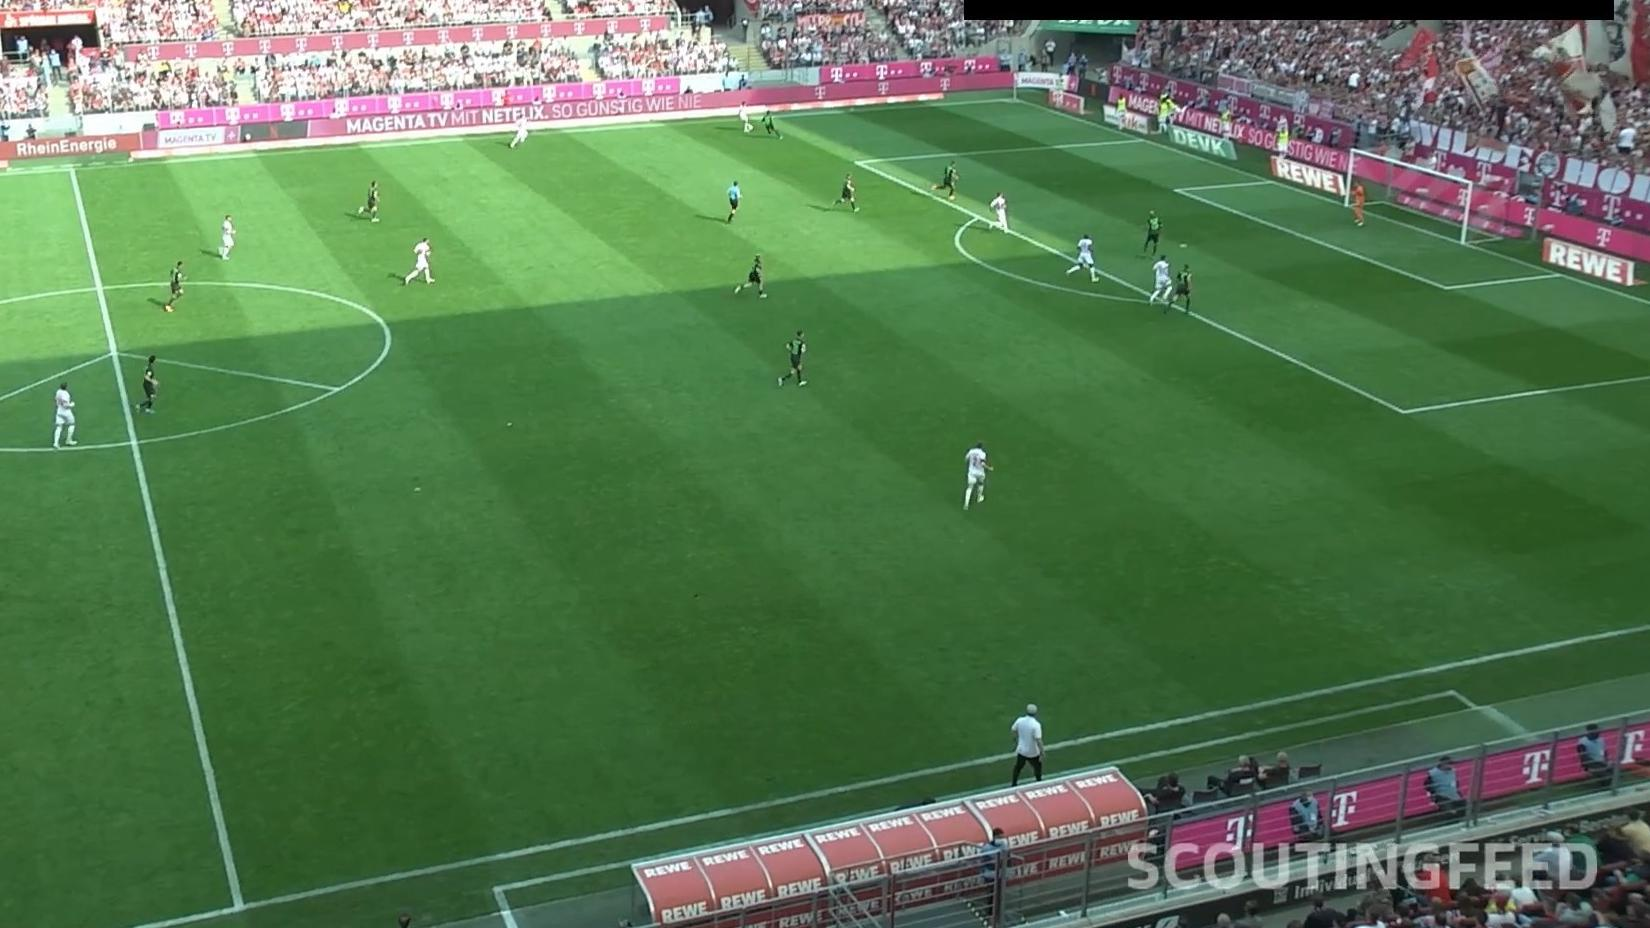ball: (747, 124, 755, 131)
